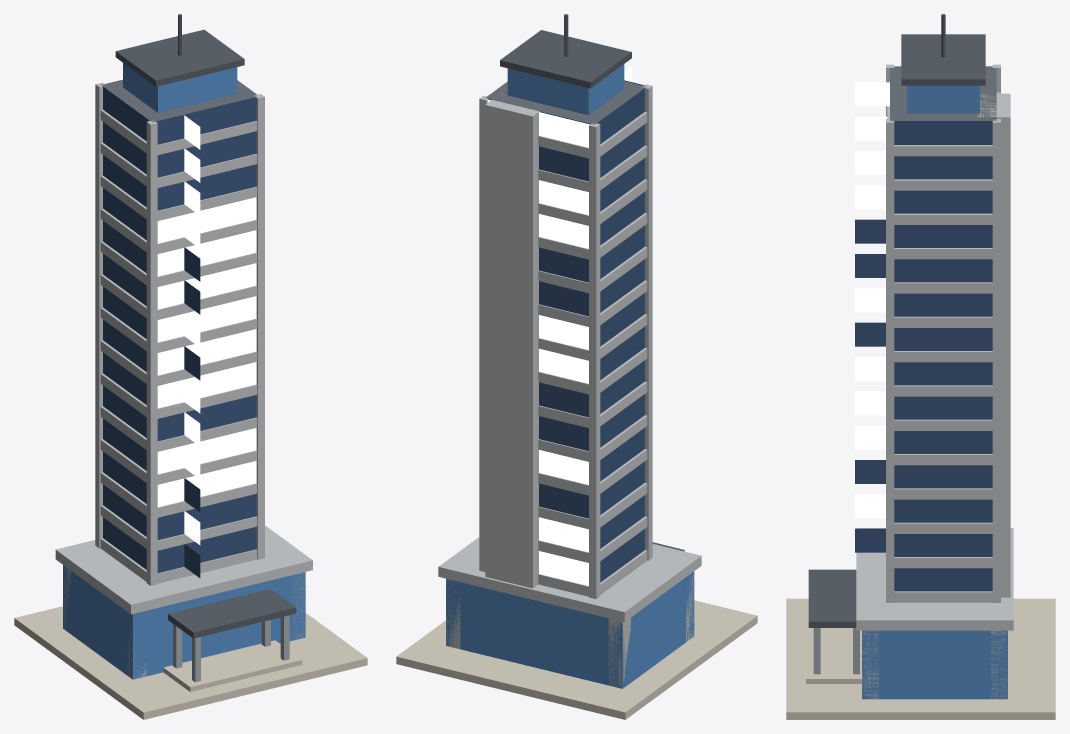
The picture shows the model from 3 angles, left to right: view 1: azimuth 30°, elevation 25°; view 2: azimuth 150°, elevation 25°; view 3: azimuth 270°, elevation 25°; orthographic projection. The views are drawn at different scales.
Parts seen in each view (by area): view 1: b20_v2_lod1; view 2: b20_v2_lod1; view 3: b20_v2_lod1.
Boxes of the visible parts, x1,y1,x2,y2 form: b20_v2_lod1: [14, 14, 367, 719]; b20_v2_lod1: [396, 14, 757, 719]; b20_v2_lod1: [786, 14, 1055, 719].
Size of the model in its own units: 0.96 by 2.55 by 0.96.
